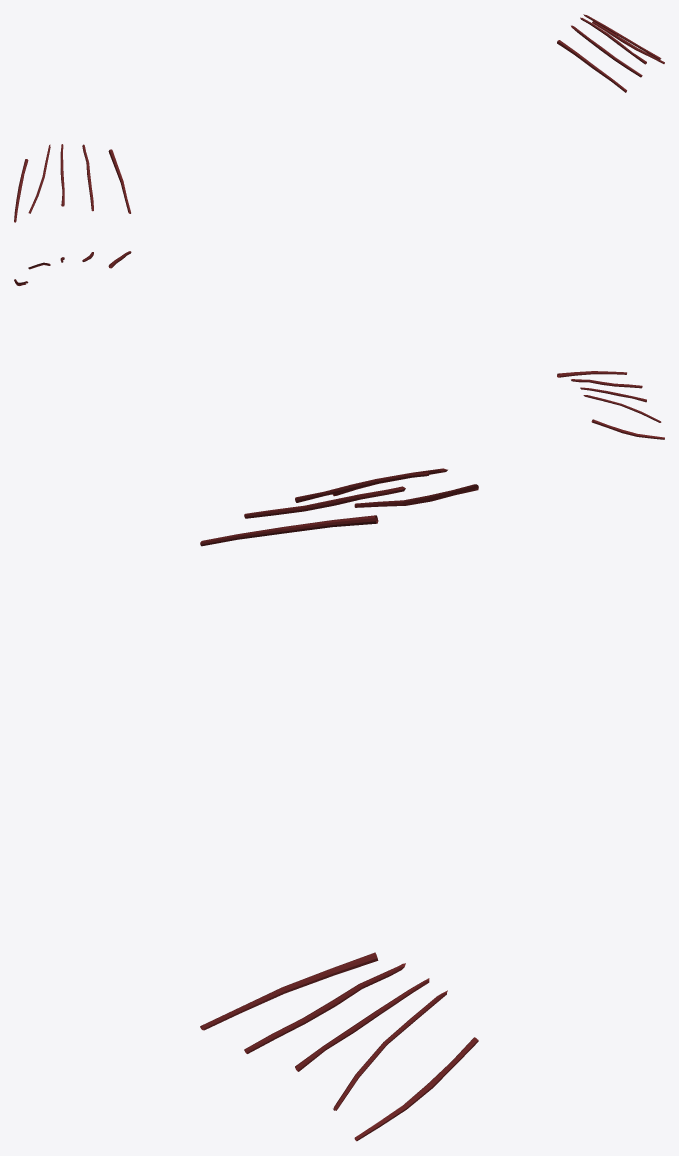
File: Artérias Metatarsales Dorsales.FBX
3 views of the same model, one above another, from view 1: azimuth 30°, elevation 25°; view 2: azimuth 150°, elevation 25°; view 3: azimuth 270°, elevation 25° (orthographic). The views are drawn at different scales.
Visible parts, largest first — view 1: CS_Arterie; view 2: CS_Arterie; view 3: CS_Arterie.
Boxes of the visible parts, left/top/right/bottom form: CS_Arterie: left=14, top=14, right=664, bottom=222; CS_Arterie: left=14, top=251, right=664, bottom=439; CS_Arterie: left=200, top=468, right=478, bottom=1141.
Bounding box in the file's own units: 1802 × 132 × 334.
